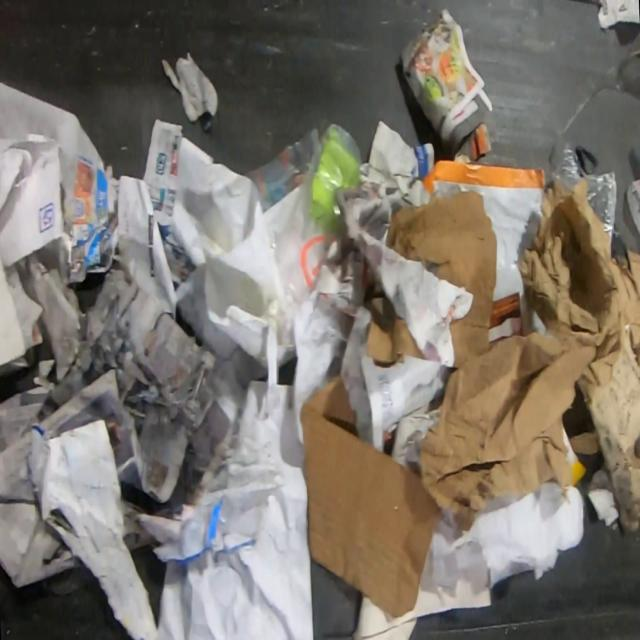cardboard: (420, 332, 597, 532), (301, 372, 442, 617), (387, 189, 496, 367), (358, 254, 430, 369), (614, 247, 640, 371)
rigid_plastic: (245, 122, 361, 303)
soft_plastic: (549, 132, 618, 244), (574, 141, 601, 174), (610, 230, 630, 271), (626, 180, 640, 236)
